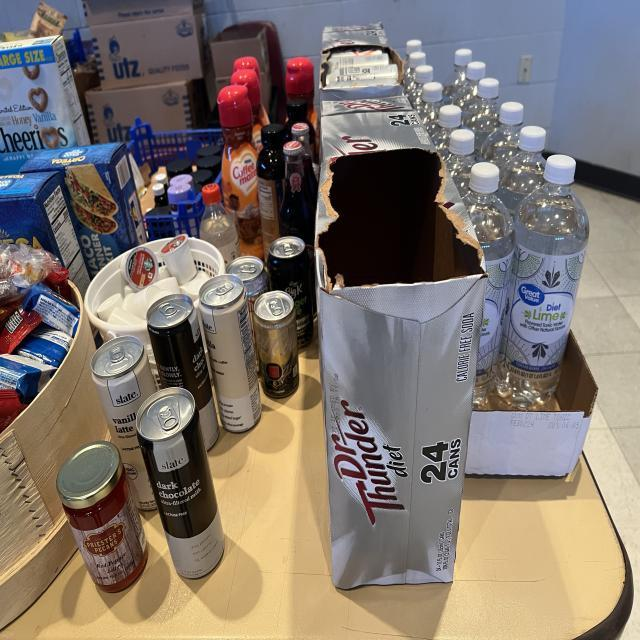Coffee: (136, 387, 224, 578), (91, 337, 158, 510), (146, 293, 219, 450), (199, 273, 261, 432)
Condiment: (256, 123, 285, 260), (168, 173, 195, 213), (285, 98, 308, 140), (146, 183, 170, 215), (196, 155, 221, 178), (166, 158, 192, 180), (191, 170, 214, 193), (196, 145, 221, 158)
Creamer: (218, 85, 264, 258), (231, 67, 270, 152), (285, 57, 318, 128), (160, 235, 196, 285), (121, 245, 159, 292), (146, 277, 180, 307), (180, 270, 210, 300), (124, 288, 148, 320), (234, 57, 261, 85), (98, 293, 124, 322), (108, 307, 146, 325), (149, 288, 171, 307), (124, 285, 134, 297)
Pickled Food -Jar-: (58, 442, 148, 592)
Snack: (22, 282, 80, 337), (0, 353, 56, 403), (15, 323, 72, 367), (0, 305, 42, 353), (0, 388, 28, 433)
Soda: (279, 140, 315, 310), (268, 237, 312, 348), (254, 290, 299, 398), (226, 257, 270, 345), (291, 122, 318, 207)
Water: (495, 155, 589, 408), (462, 162, 515, 407), (496, 127, 546, 218), (199, 183, 240, 263), (462, 78, 500, 157), (480, 102, 524, 168), (445, 128, 476, 197), (452, 62, 485, 115), (431, 105, 461, 160), (442, 48, 472, 103), (416, 82, 442, 135), (406, 65, 434, 108), (405, 52, 426, 87), (405, 38, 422, 58)
